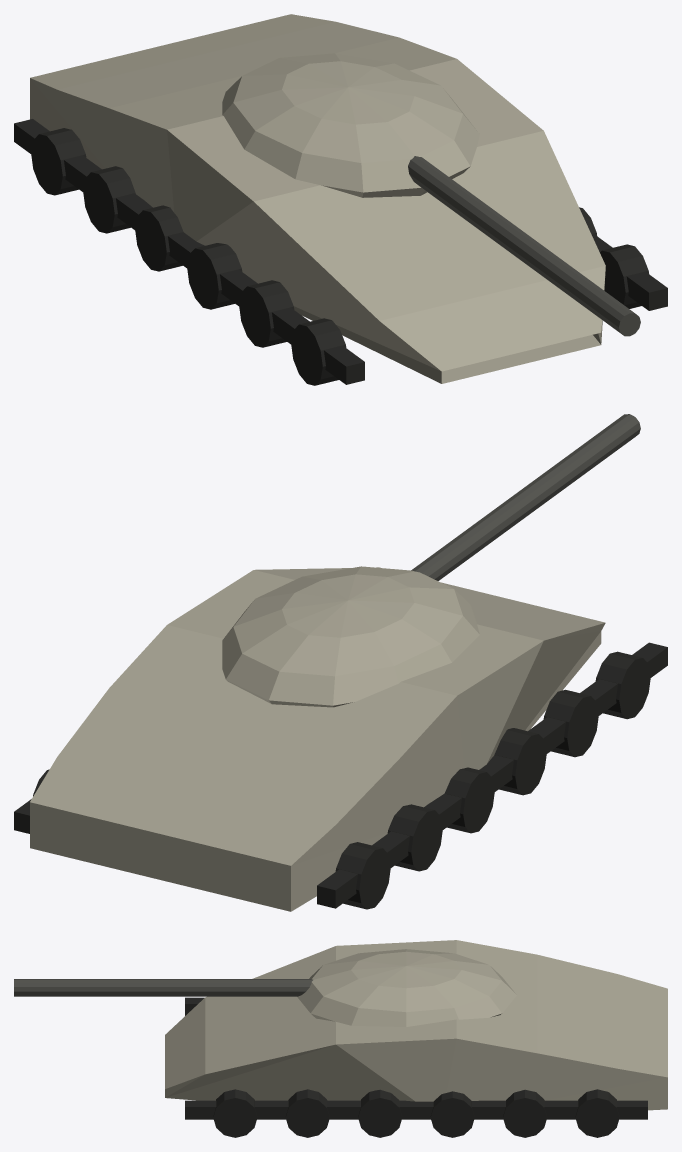
3 renders of one model, top to bottom at view 1: azimuth 30°, elevation 25°; view 2: azimuth 150°, elevation 25°; view 3: azimuth 270°, elevation 25°, orthographic. The views are drawn at different scales.
Parts seen in each view (by area): view 1: Hull, Turret, Gun, Track_L, Wheel_L_02, Wheel_L_06, Wheel_L_01, Wheel_L_03, Wheel_L_05, Wheel_L_04, Wheel_R_01, Track_R; view 2: Hull, Turret, Gun, Track_L, Wheel_L_01, Wheel_L_02, Wheel_L_06, Wheel_L_05, Wheel_L_03, Wheel_L_04; view 3: Hull, Turret, Gun, Track_R, Wheel_R_06, Wheel_R_01, Wheel_R_02, Wheel_R_03, Wheel_R_05, Wheel_R_04.
Boxes of the visible parts, x1=… form: Hull: x1=30, y1=14, x2=605, y2=383; Turret: x1=222, y1=53, x2=479, y2=197; Gun: x1=408, y1=156, x2=640, y2=336; Track_L: x1=14, y1=119, x2=364, y2=384; Wheel_L_02: x1=239, y1=280, x2=294, y2=347; Wheel_L_06: x1=31, y1=128, x2=86, y2=195; Wheel_L_01: x1=291, y1=318, x2=346, y2=385; Wheel_L_03: x1=187, y1=243, x2=242, y2=309; Wheel_L_05: x1=83, y1=166, x2=135, y2=233; Wheel_L_04: x1=135, y1=205, x2=183, y2=271; Wheel_R_01: x1=600, y1=244, x2=648, y2=308; Track_R: x1=591, y1=233, x2=667, y2=310; Hull: x1=30, y1=567, x2=605, y2=911; Turret: x1=222, y1=566, x2=479, y2=707; Gun: x1=411, y1=414, x2=640, y2=580; Track_L: x1=317, y1=642, x2=667, y2=908; Wheel_L_01: x1=595, y1=651, x2=650, y2=719; Wheel_L_02: x1=543, y1=689, x2=598, y2=757; Wheel_L_06: x1=335, y1=842, x2=390, y2=909; Wheel_L_05: x1=387, y1=804, x2=442, y2=871; Wheel_L_03: x1=494, y1=728, x2=546, y2=795; Wheel_L_04: x1=444, y1=767, x2=494, y2=833; Hull: x1=165, y1=940, x2=667, y2=1110; Turret: x1=297, y1=949, x2=516, y2=1026; Gun: x1=14, y1=979, x2=312, y2=996; Track_R: x1=185, y1=1100, x2=647, y2=1119; Wheel_R_06: x1=575, y1=1089, x2=619, y2=1137; Wheel_R_01: x1=213, y1=1089, x2=257, y2=1137; Wheel_R_02: x1=285, y1=1089, x2=329, y2=1137; Wheel_R_03: x1=358, y1=1089, x2=402, y2=1137; Wheel_R_05: x1=503, y1=1089, x2=547, y2=1137; Wheel_R_04: x1=430, y1=1091, x2=474, y2=1137.
Bounding box in the file's own units: 3.6 × 1.75 × 8.92.
